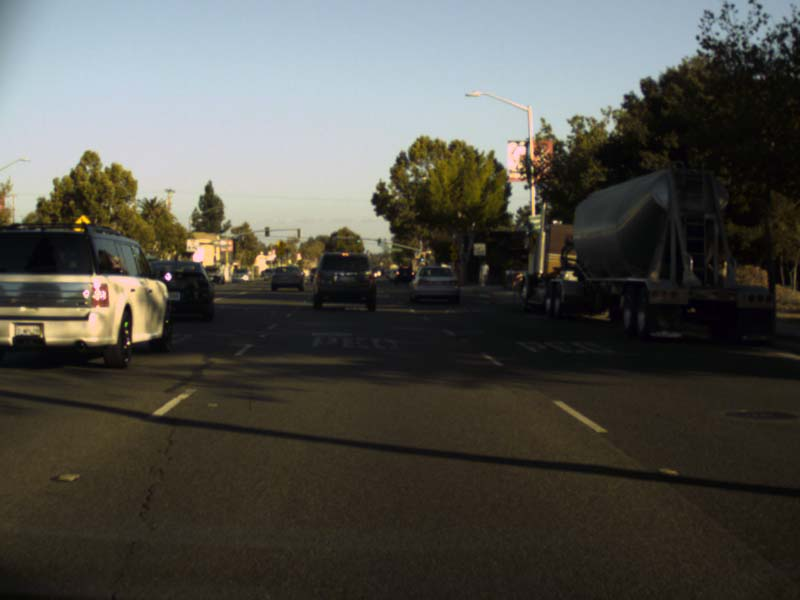Green: (356, 237, 359, 241), (378, 239, 380, 245)
